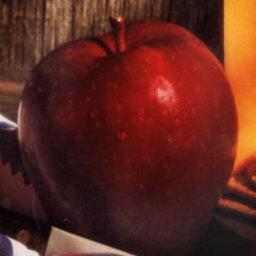apple: (16, 19, 241, 251)
